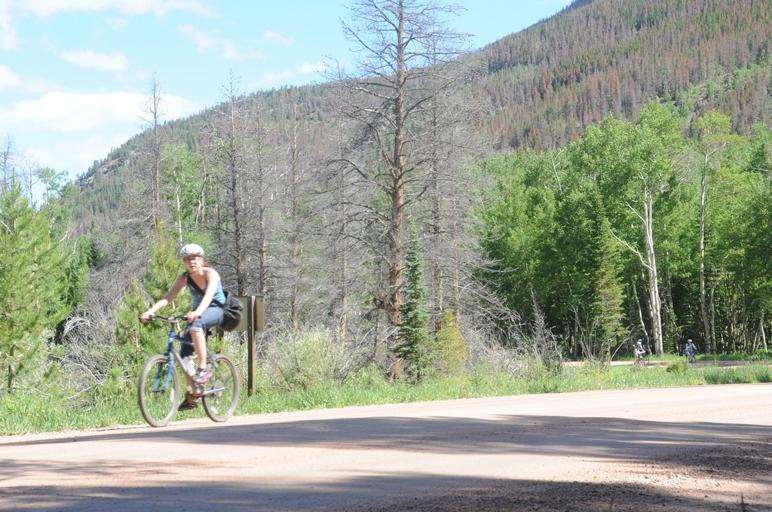non-vehicle: (136, 312, 242, 429), (686, 350, 696, 364)
